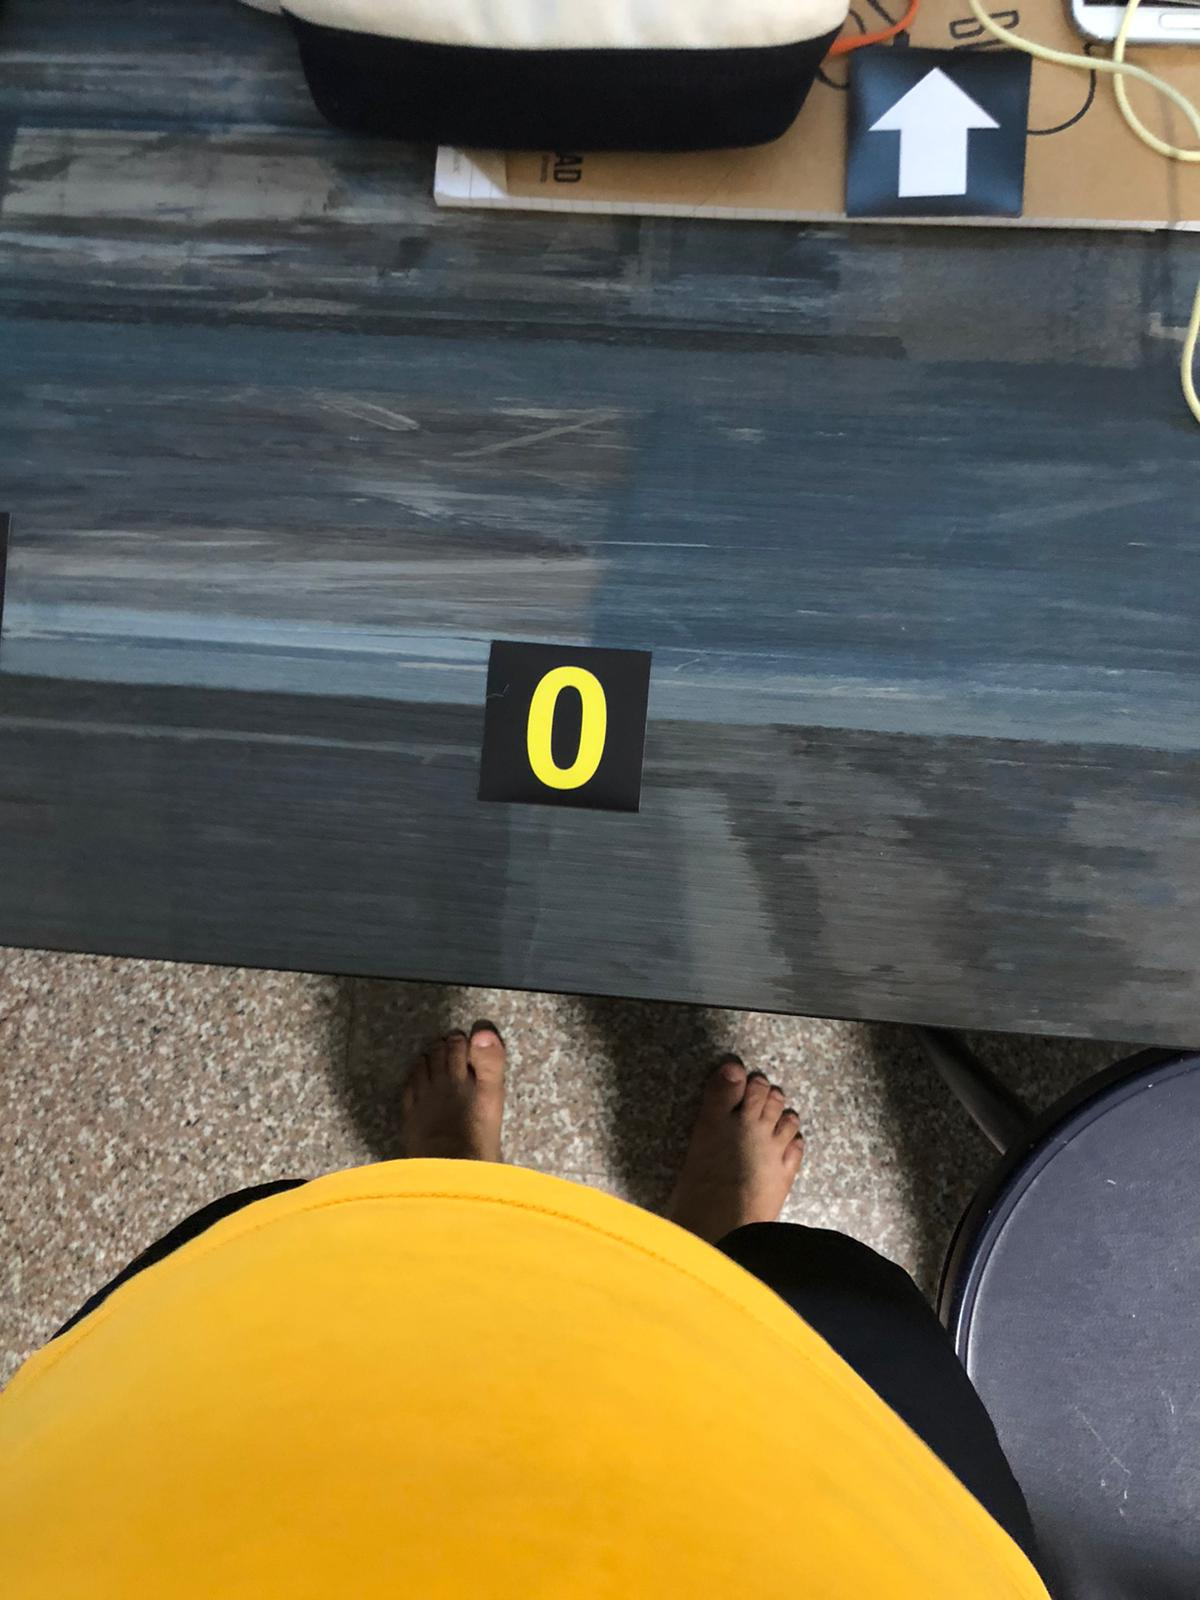Number 0: (492, 643, 639, 805)
